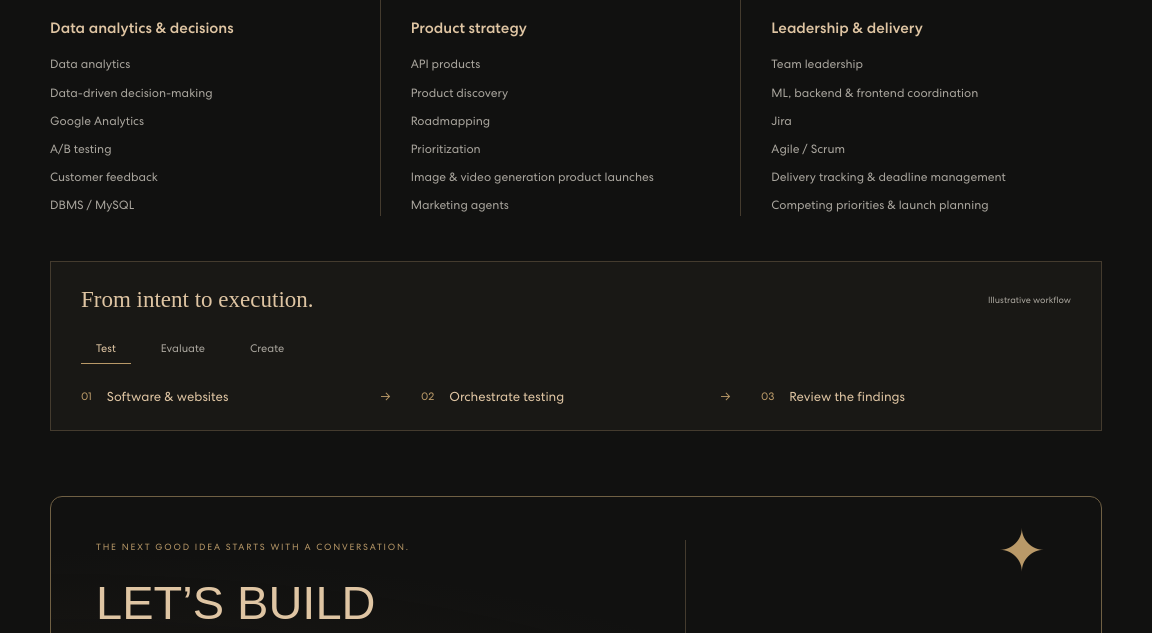
Test: workflow selector switches the illustrative content and selected state
(page scrolled)
Click the button "Evaluate".
click(183, 348)  # box [146,333,220,364]
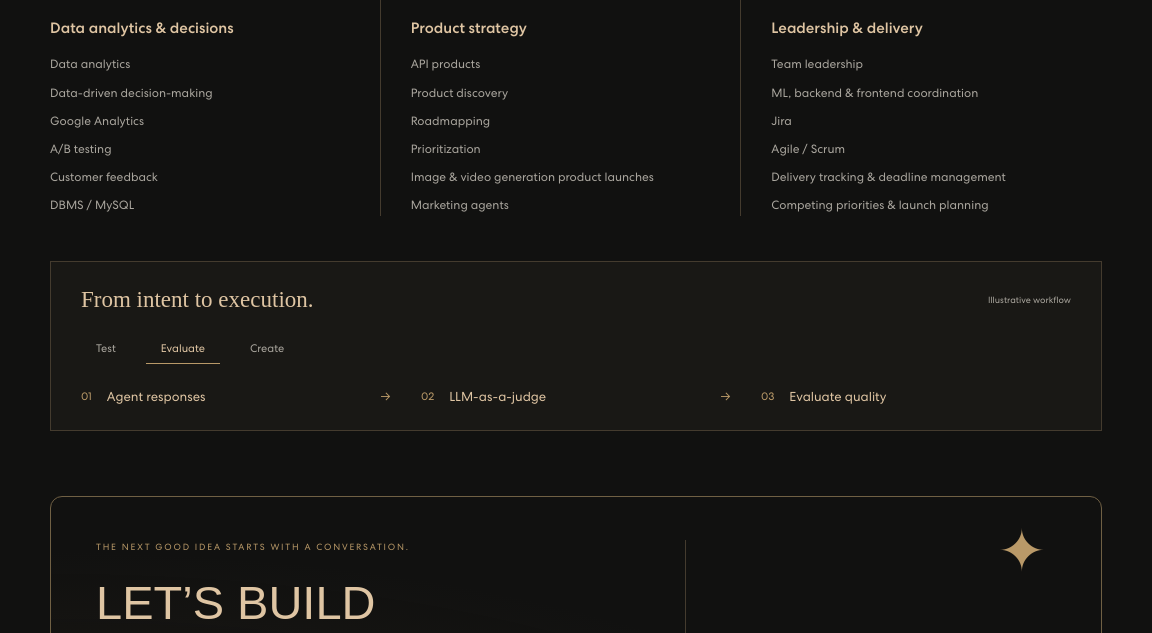
Expected: the text "Agent responses" is shown, [107,388,206,405]
Click the button "Create".
click(267, 348)  # box [235,333,299,364]
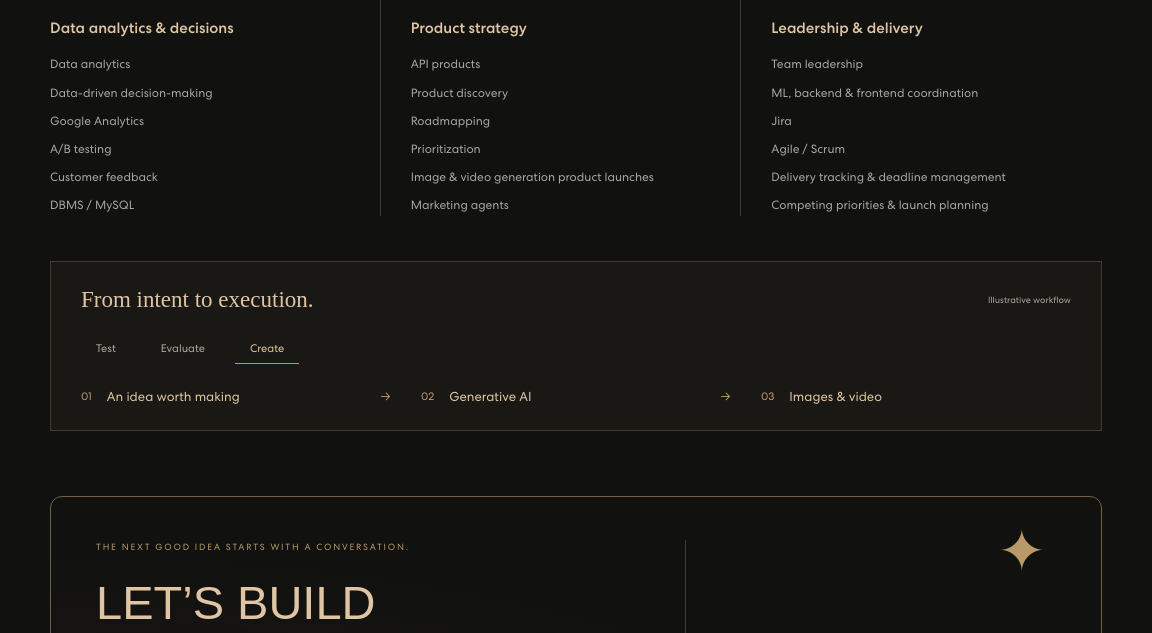
Expected: the text "An idea worth making" is shown, [107,388,240,405]
